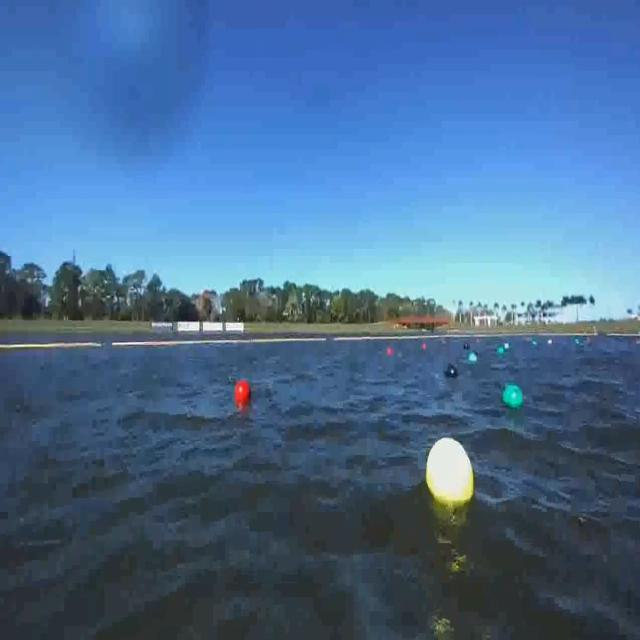black-buoy: (443, 362, 457, 378)
green-buoy: (500, 382, 522, 409)
red-buoy: (234, 378, 249, 401)
yellow-buoy: (427, 439, 476, 508)
